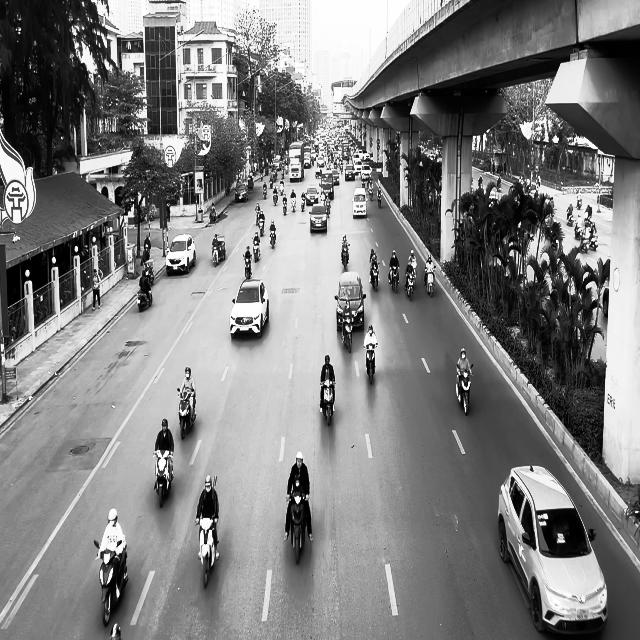bus: (288, 141, 304, 182)
car: (497, 464, 608, 636), (229, 278, 269, 338), (334, 270, 366, 330), (165, 233, 196, 276), (310, 203, 328, 233), (352, 188, 366, 217), (234, 183, 248, 202), (305, 186, 319, 204)
motorbike: (94, 536, 128, 626), (286, 491, 308, 564), (196, 517, 218, 588), (153, 450, 173, 508), (176, 388, 196, 439), (456, 363, 474, 415), (320, 380, 335, 425), (364, 343, 377, 384), (137, 278, 152, 312), (341, 314, 354, 353), (424, 266, 435, 297), (388, 266, 399, 293), (369, 262, 379, 290), (405, 272, 415, 300), (243, 253, 252, 279), (341, 245, 349, 270), (252, 238, 260, 262), (212, 244, 219, 266), (269, 228, 276, 248), (377, 188, 382, 207), (368, 183, 373, 200)
